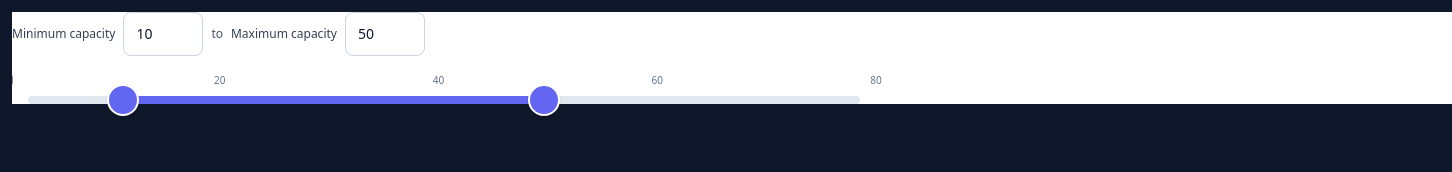
CapacityRange › clamps empty max input to MAX_CAPACITY
Clear the number field labelled "Maximum capacity": (385, 34) 345,12 -> 425,56
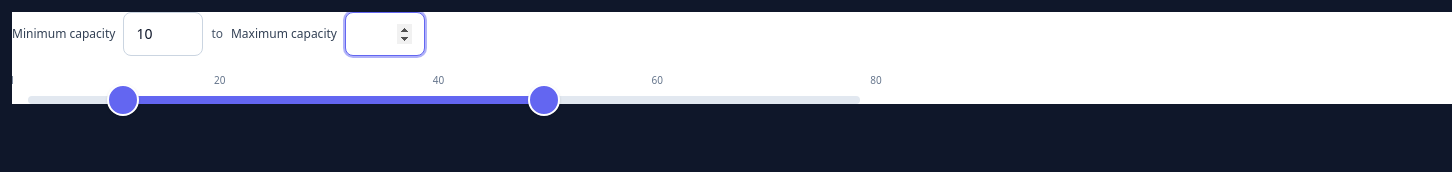
Press Tab
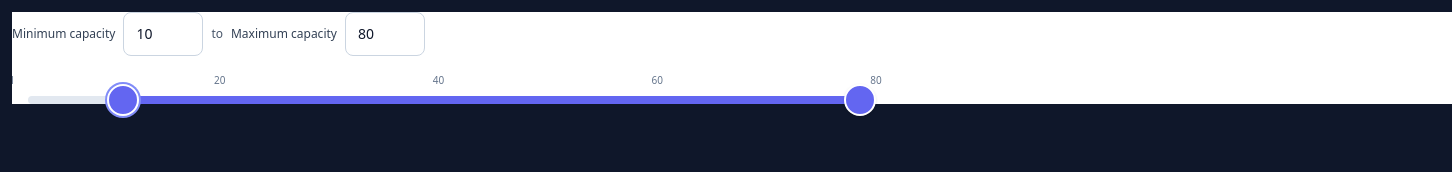
Check: the number field labelled "Maximum capacity" holds "80", box 345,12 -> 425,56
